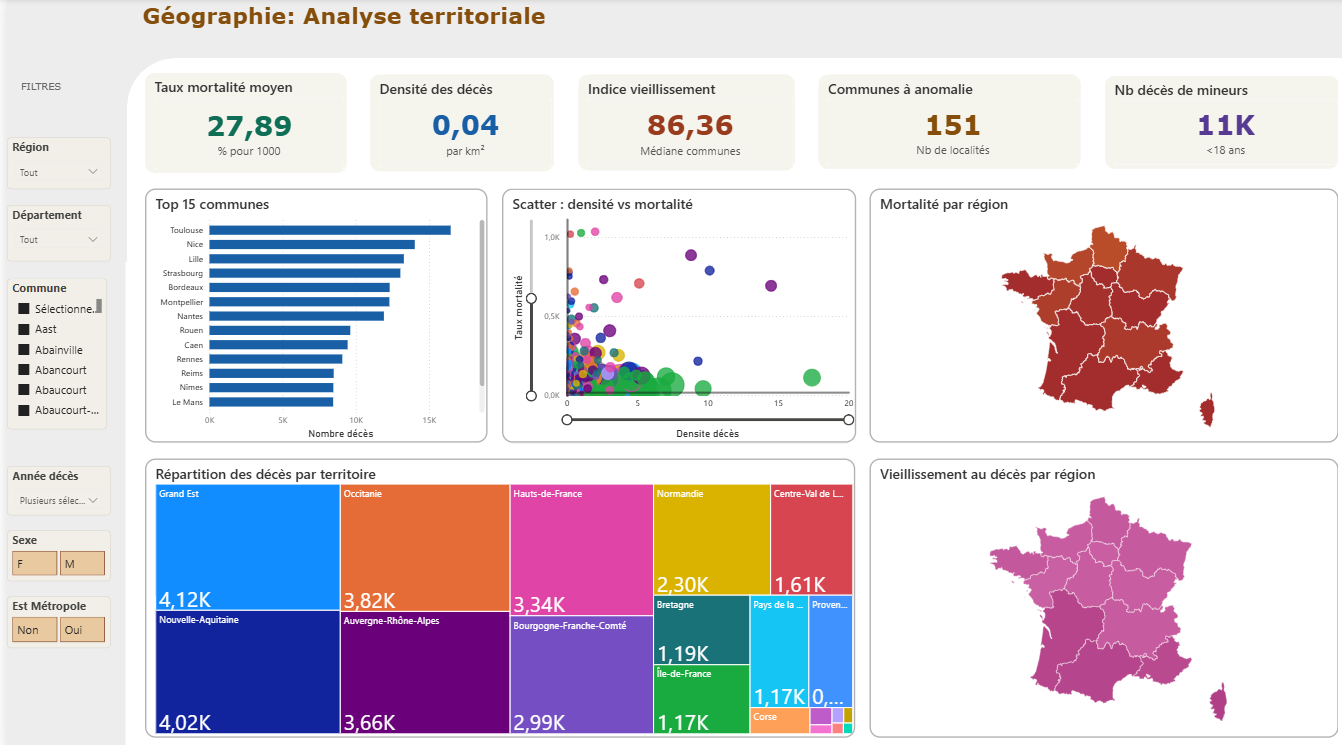

Layout of this report page (visuals, bound fields, positions):
{"tool":"powerbi","page":{"name":"Géographie","canvas":[1920,1080],"ordinal":2},"visuals":[{"type":"group","id":"g1","title":"Groupe 1","box":[170.4,86.3,1749.3,993.7],"z":0},{"type":"shape","box":[258.6,86.3,1661.1,993.7],"z":0,"group":"g1"},{"type":"cardVisual","title":"Taux mortalité moyen","fields":{"Data":["_Mesures.Taux pour Mille"]},"box":[197.7,108.2,288.3,143.3],"z":1000},{"type":"shape","box":[170.4,377.7,1661.1,702.3],"z":1000,"group":"g1"},{"type":"shape","box":[171.6,86.6,1747,992.4],"z":2000,"group":"g1"},{"type":"cardVisual","title":"Communes à anomalie","fields":{"Data":["_Mesures.Communes anomalie"]},"box":[1163.1,109,375,135],"z":2000},{"type":"cardVisual","title":"Nb décès de mineurs","fields":{"Data":["_Mesures.Nb mineurs"]},"box":[1572.7,111.5,335,132.5],"z":3000},{"type":"clusteredBarChart","title":"Top 15 communes","fields":{"Category":["dim_lieu.Libellé commune"],"Y":["_Mesures.Total décès"]},"box":[197.7,273.6,490.6,364.2],"z":4000},{"type":"cardVisual","title":"Indice vieillissement","fields":{"Data":["Median(agg_mortalite_commune.Indice vieillissement)"]},"box":[818.5,109,310,137.5],"z":5000},{"type":"slicer","title":"Commune","fields":{"Values":["dim_lieu.Libellé commune"]},"box":[0,401.6,143.5,216.1],"z":6000},{"type":"cardVisual","title":"Densité des décès","fields":{"Data":["_Mesures.Densité décès moyenne"]},"box":[520.6,109.9,263.3,138.3],"z":7000},{"type":"shapeMap","title":"Mortalité par région","fields":{"Value":["Avg(agg_mortalite_commune.Taux mortalité)"],"Category":["dim_lieu.Libellé région"]},"box":[1236,273.6,671.7,364.2],"z":8000},{"type":"scatterChart","title":"Scatter : densité vs mortalité","fields":{"X":["agg_mortalite_commune.Densite décès"],"Y":["agg_mortalite_commune.Taux mortalité"],"Size":["Sum(agg_mortalite_commune.Population commune)"],"Series":["dim_lieu.Libellé région"]},"box":[708.3,273.6,507.5,364.2],"z":9000},{"type":"treemap","title":"Répartition des décès par territoire","fields":{"Group":["dim_lieu.Hiérarchie Territoire.Région","dim_lieu.Hiérarchie Territoire.Département","dim_lieu.Hiérarchie Territoire.Commune"],"Values":["CountNonNull(agg_mortalite_commune.Nombre décès)"]},"box":[197.9,658.6,1017.1,400],"z":10000},{"type":"shapeMap","title":"Vieillissement au décès par région","fields":{"Category":["dim_lieu.Libellé région"],"Value":["_Mesures.Indice vieillissement moyen"]},"box":[1235.7,658.6,672.1,400],"z":11000},{"type":"textbox","box":[189.1,0,741.3,58.7],"z":12000},{"type":"textbox","box":[14.3,110.7,98.2,35.7],"z":13000},{"type":"advancedSlicerVisual","fields":{"Values":["fact_deces.Sexe"]},"box":[0,762.9,148.4,72.6],"z":14000},{"type":"slicer","title":"Année décès","fields":{"Values":["dim_date.Année"]},"box":[0,671,148.4,71],"z":15000},{"type":"slicer","title":"Région","fields":{"Values":["dim_lieu.Libellé région"]},"box":[0,200,148.4,74.2],"z":16000},{"type":"slicer","title":"Département","fields":{"Values":["dim_lieu.Libellé département"]},"box":[0,296.8,148.4,80.6],"z":17000},{"type":"advancedSlicerVisual","fields":{"Values":["dim_lieu.Est Métropole"]},"box":[0,858.1,148.4,74.2],"z":18000}]}

Visuals, with their boxes in screenshot pixels (x1, y1, x2, y2), scaled from the page's 1920x1080 canvas onto the 1342x745 screenshot:
"Groupe 1" group: [x1=119, y1=60, x2=1341, y2=744]
shape: [x1=181, y1=60, x2=1341, y2=744]
"Taux mortalité moyen" cardVisual: [x1=138, y1=75, x2=340, y2=173]
shape: [x1=119, y1=261, x2=1280, y2=744]
shape: [x1=120, y1=60, x2=1341, y2=744]
"Communes à anomalie" cardVisual: [x1=813, y1=75, x2=1075, y2=168]
"Nb décès de mineurs" cardVisual: [x1=1099, y1=77, x2=1333, y2=168]
"Top 15 communes" clusteredBarChart: [x1=138, y1=189, x2=481, y2=440]
"Indice vieillissement" cardVisual: [x1=572, y1=75, x2=789, y2=170]
"Commune" slicer: [x1=0, y1=277, x2=100, y2=426]
"Densité des décès" cardVisual: [x1=364, y1=76, x2=548, y2=171]
"Mortalité par région" shapeMap: [x1=864, y1=189, x2=1333, y2=440]
"Scatter : densité vs mortalité" scatterChart: [x1=495, y1=189, x2=850, y2=440]
"Répartition des décès par territoire" treemap: [x1=138, y1=454, x2=849, y2=730]
"Vieillissement au décès par région" shapeMap: [x1=864, y1=454, x2=1333, y2=730]
textbox: [x1=132, y1=0, x2=650, y2=40]
textbox: [x1=10, y1=76, x2=79, y2=101]
advancedSlicerVisual - fact_deces.Sexe: [x1=0, y1=526, x2=104, y2=576]
"Année décès" slicer: [x1=0, y1=463, x2=104, y2=512]
"Région" slicer: [x1=0, y1=138, x2=104, y2=189]
"Département" slicer: [x1=0, y1=205, x2=104, y2=260]
advancedSlicerVisual - dim_lieu.Est Métropole: [x1=0, y1=592, x2=104, y2=643]
